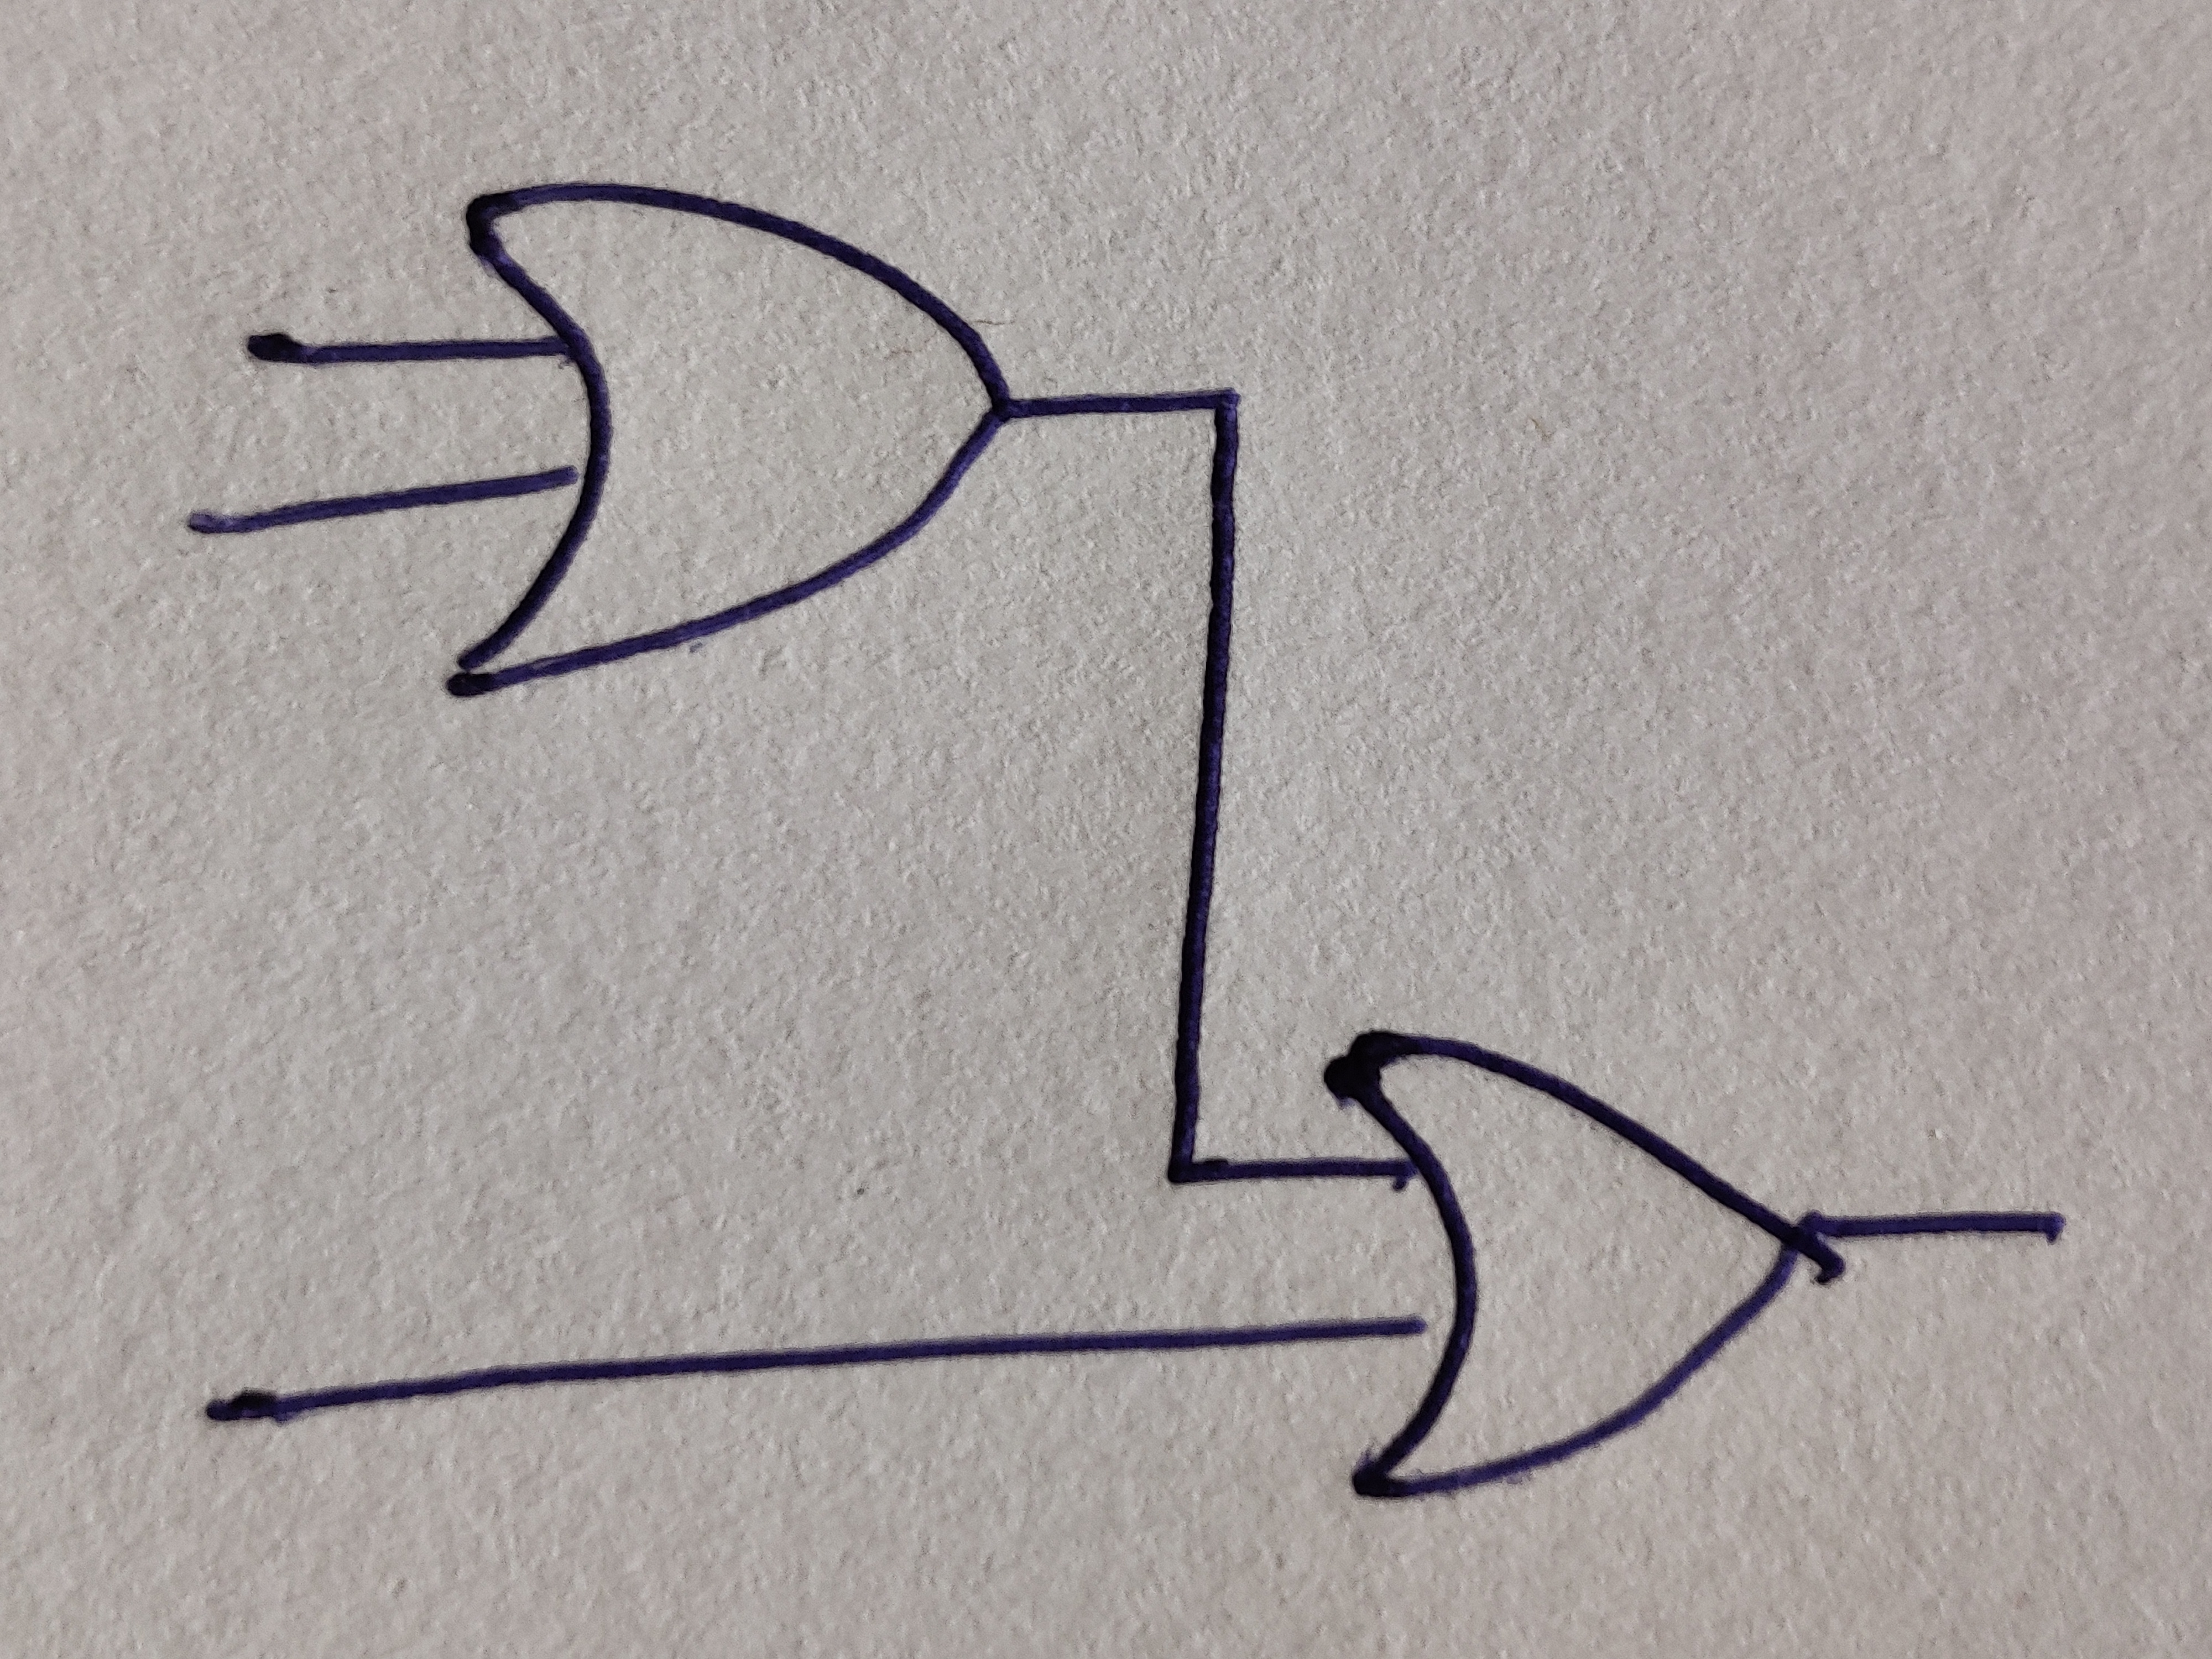or: (446, 186, 1010, 699), (1324, 1033, 1846, 1497)
